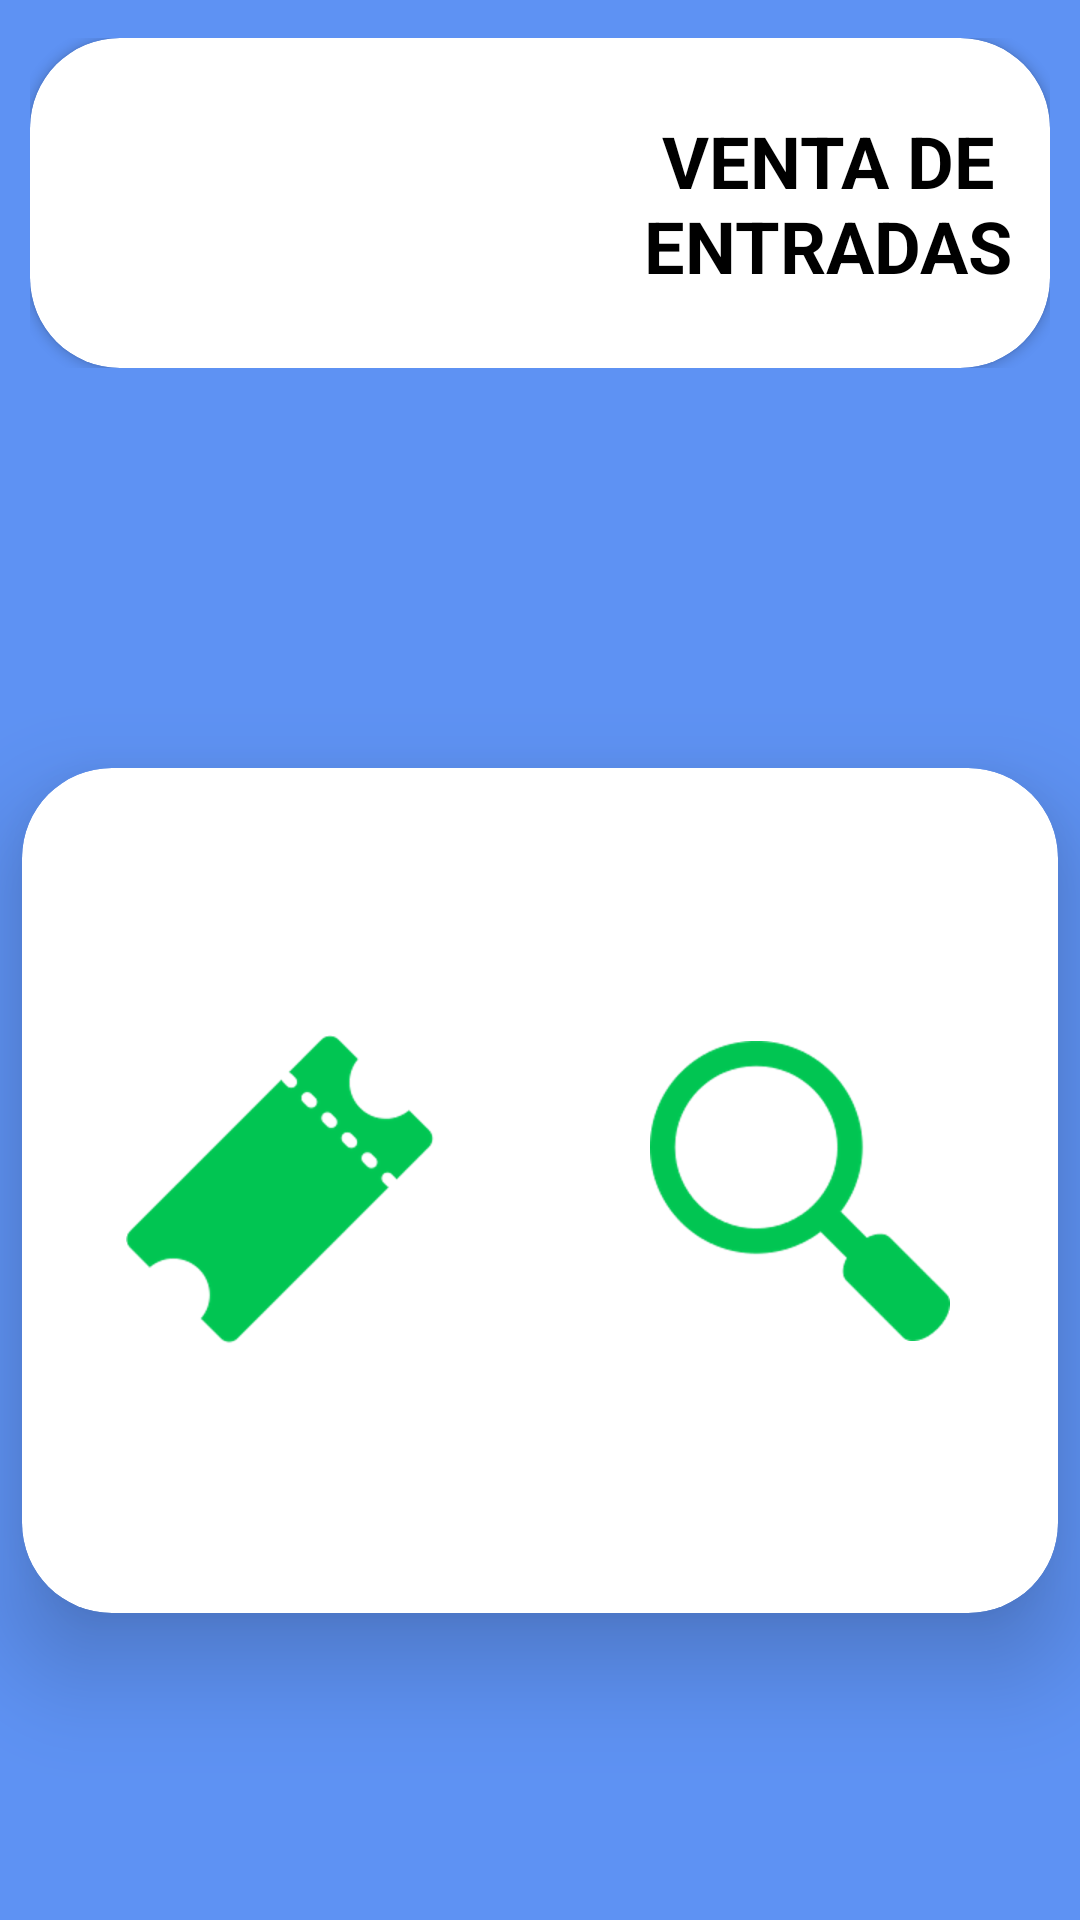

Icon click points for this 1080x1920 phone screenshot, format point (x, y):
search: point (800, 1191)
ticket: point (279, 1189)
